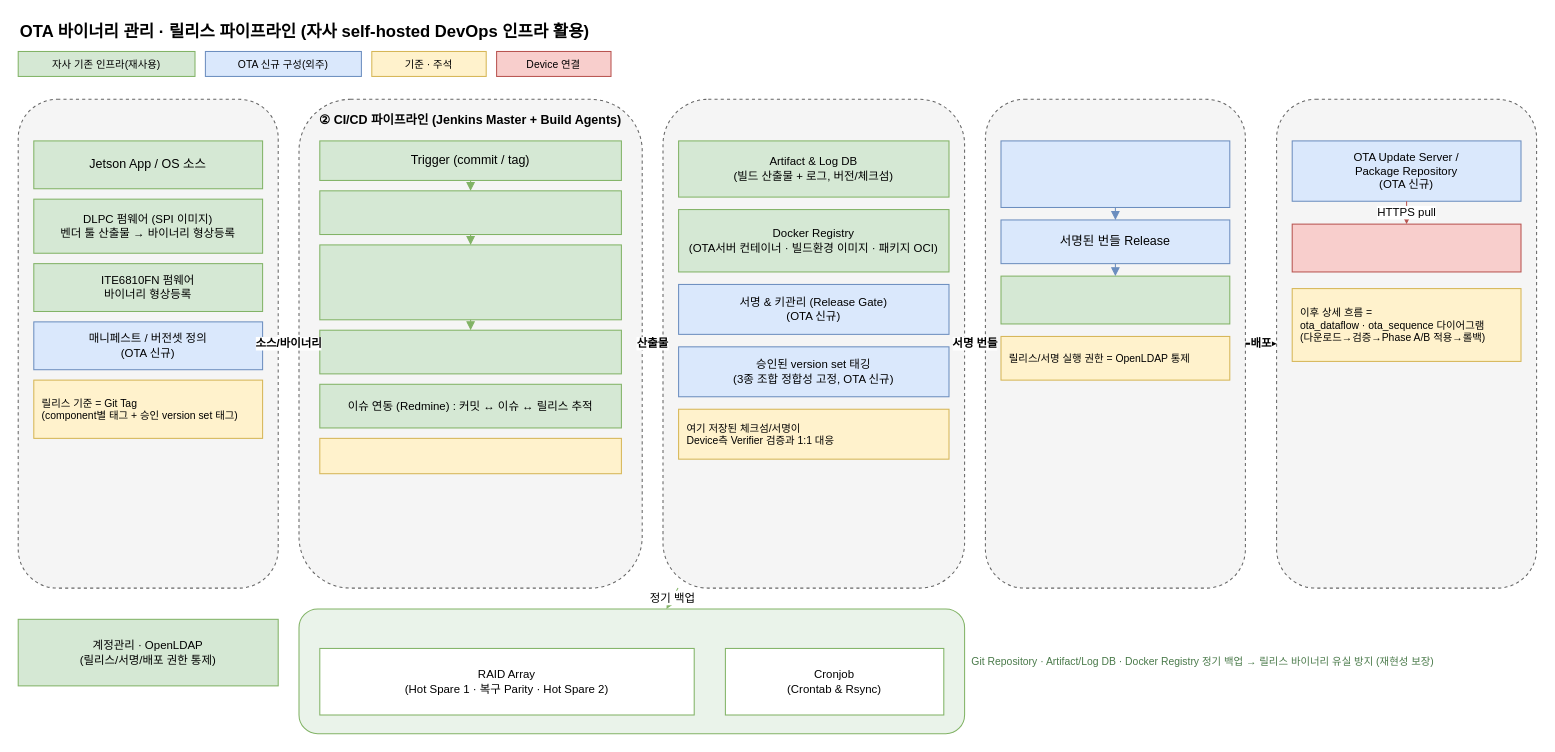
Some shapes in this 1555 by 752 pixel diagram are drawn without their labels. The shapes that lost their labels are listed below. From the top down, each one's box as (x1, y1, x2, y2) in pixels, then its label:
(1000, 140, 1230, 207): OTA 번들 조립 (Jetson + DLPC + ITE + 매니페스트) (OTA 신규)
(319, 190, 621, 235): COVERAGE / 코드품질 (Sonarqube 정적분석)
(1291, 223, 1521, 272): Jetson OTA Agent (Device)
(319, 244, 621, 320): BUILD · C/C++/CLI Agent → Jetson 이미지 · Zip/Bin Agent → DLPC·ITE 펌웨어 검증·패키징
(1000, 275, 1230, 324): Publish (NGINX Reverse Proxy 경유)
(17, 98, 278, 588): ① 형상관리 · SCM (Git Repository)
(319, 329, 621, 374): TEST (자동시험 + 체크섬/무결성 검증)
(662, 98, 965, 588): ③ Artifact 저장 · 버전관리
(984, 98, 1245, 588): ④ OTA Release / Publish
(1276, 98, 1537, 588): ⑤ OTA 배포 → Device
(319, 437, 621, 474): Jenkins Master가 self-hosted Agent에 빌드 작업 분배
(298, 608, 965, 734): Data Sync (Backup)
